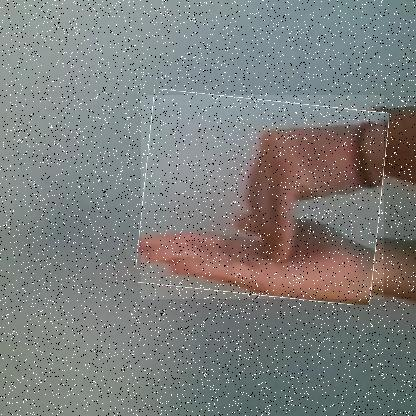Z: (140, 95, 384, 300)
